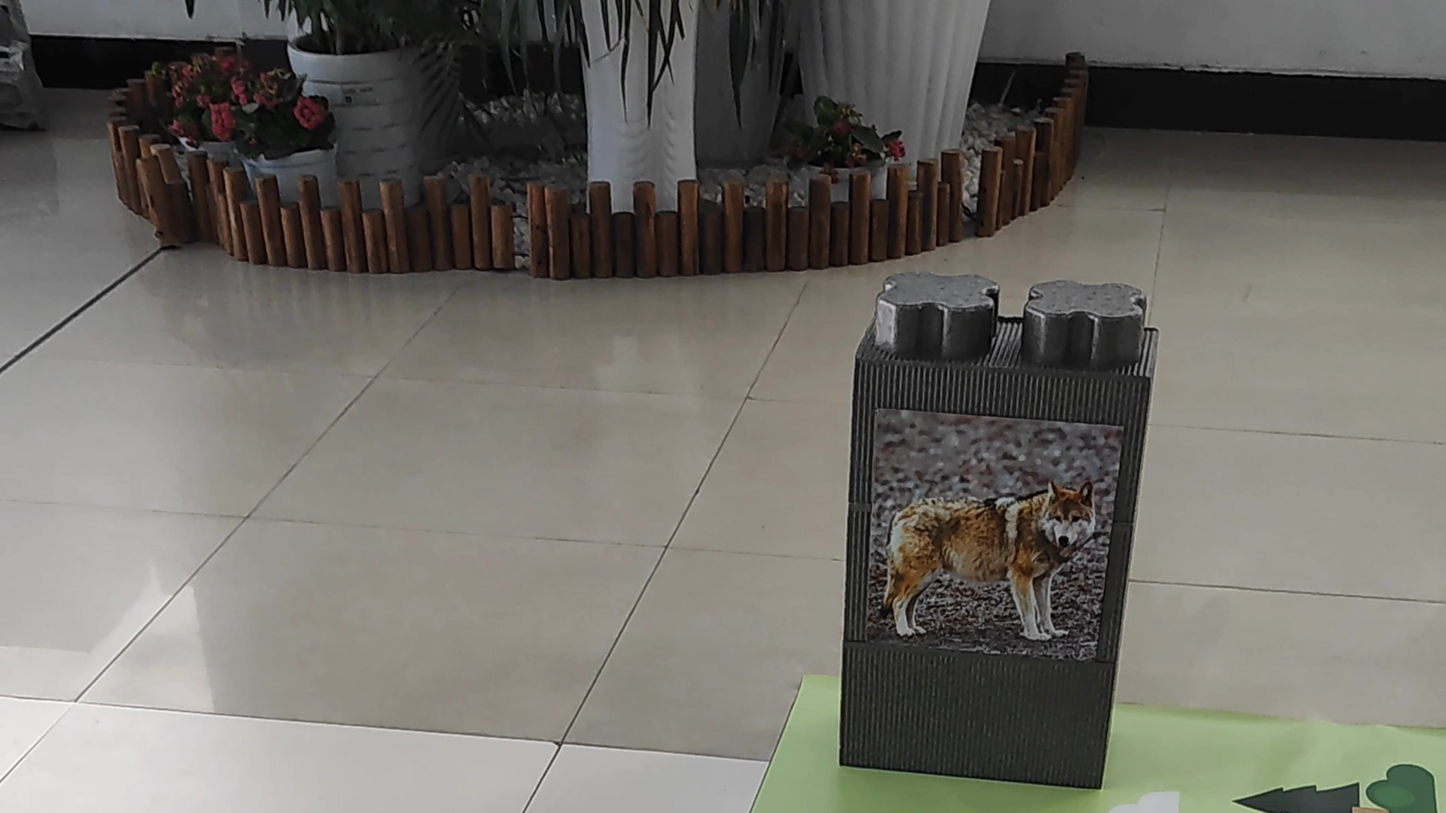wolf: (871, 457, 1100, 668)
